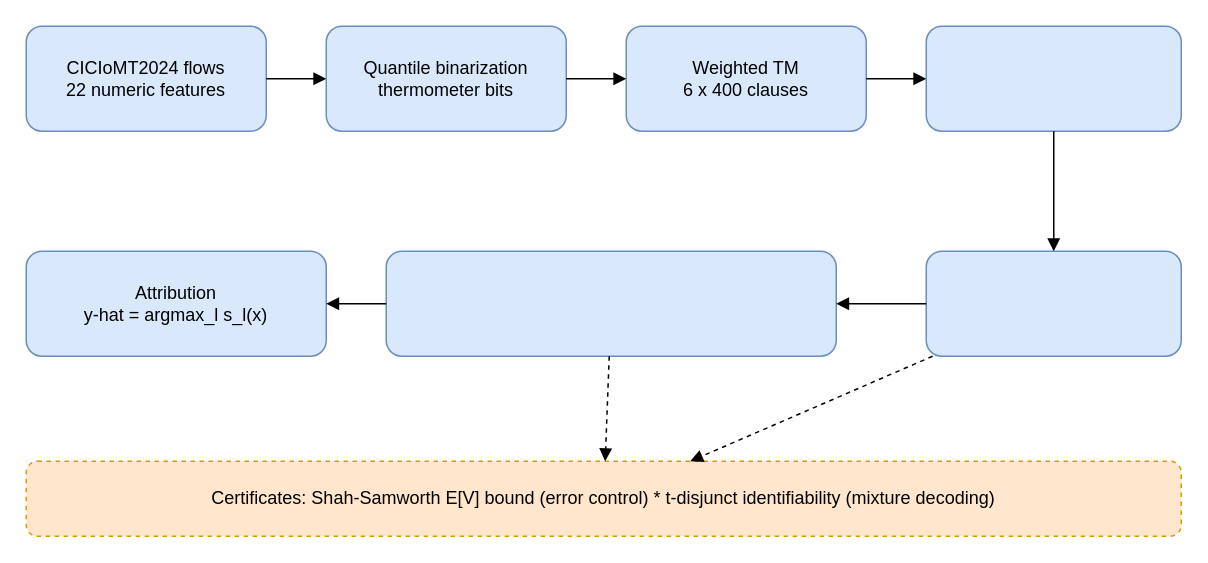
Image size: 1208x563. Some labels were removed from this diagram. Here are the shapes that lost their labels. From the top down, the box of each, then its label:
(925, 25, 1181, 131): Clause activations Z in {0,1}^(n x 2400)
(385, 250, 836, 356): Signed signatures S+ (for) / S- (against)
(925, 250, 1181, 356): CPSS per family pi-hat_j >= pi_thr, sign split
